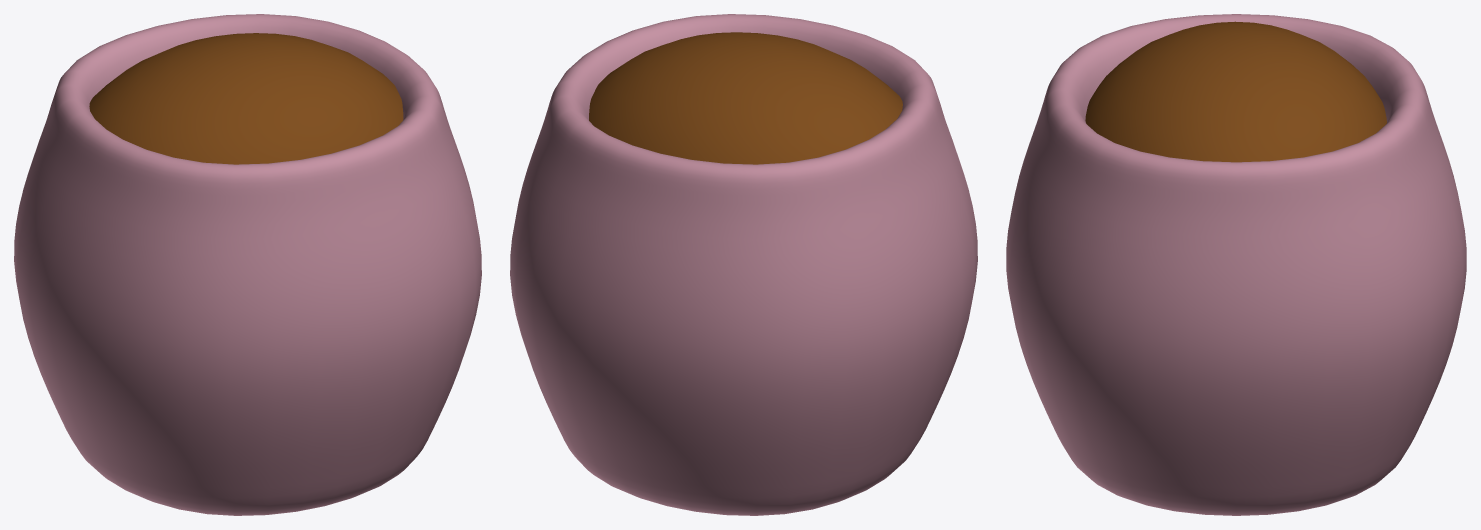
Rendered from TULIPAN MACETA.fbx.
3 renders of one model, left to right at view 1: azimuth 30°, elevation 25°; view 2: azimuth 150°, elevation 25°; view 3: azimuth 270°, elevation 25°, orthographic.
Parts seen in each view (by area): view 1: Cube.023, florpensamiento.001; view 2: Cube.023, florpensamiento.001; view 3: Cube.023, florpensamiento.001.
Part boxes in pixels (x1,y1,x2,y2): Cube.023: [14, 14, 481, 515]; florpensamiento.001: [89, 33, 403, 164]; Cube.023: [510, 14, 977, 515]; florpensamiento.001: [589, 32, 902, 164]; Cube.023: [1006, 14, 1466, 515]; florpensamiento.001: [1085, 21, 1386, 162].
Size of the model in its own units: 31.43 by 31.19 by 31.43.
